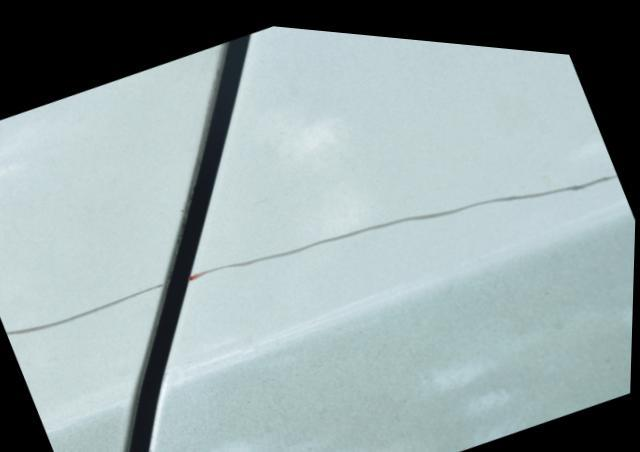scratch: (186, 156, 621, 280), (8, 275, 168, 338)
